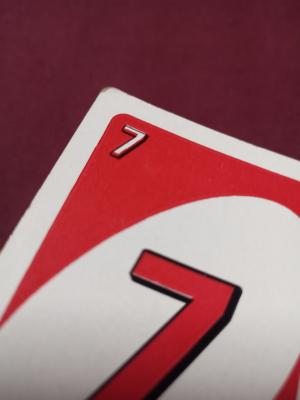num_7: (79, 240, 247, 400), (105, 116, 153, 166)
